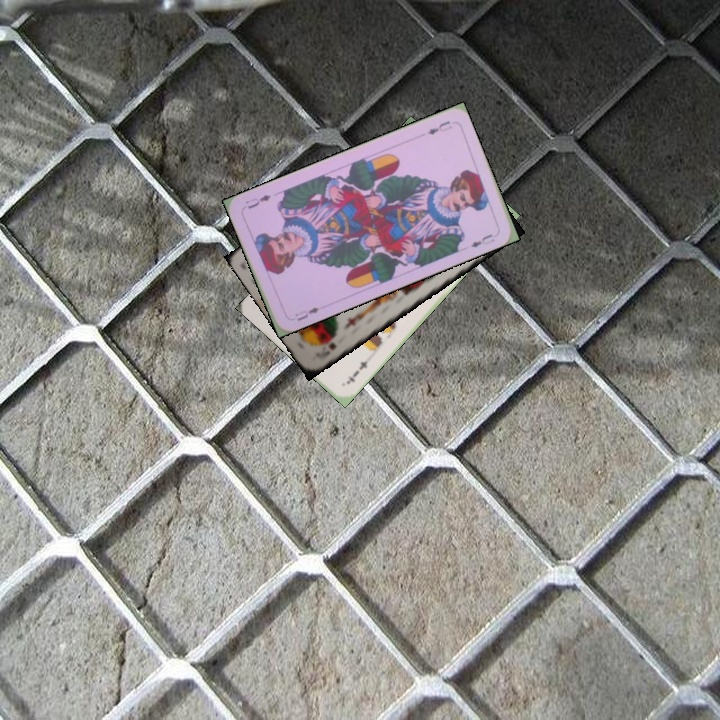E7: (342, 357, 370, 387)
EU: (291, 303, 322, 324), (423, 117, 455, 137)
SK: (311, 339, 339, 360)
